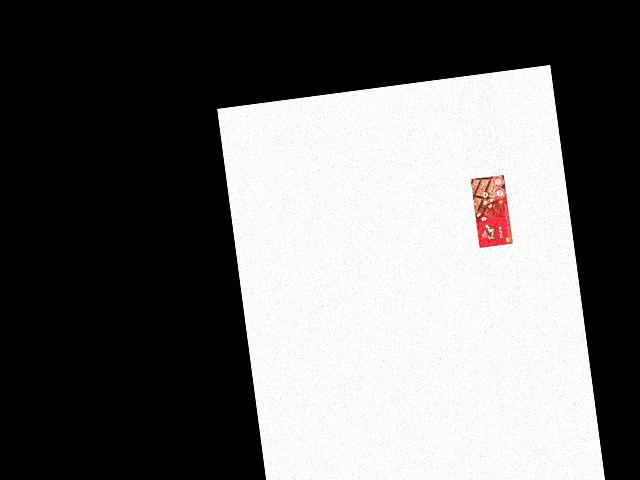chocolate: (470, 174, 513, 248)
